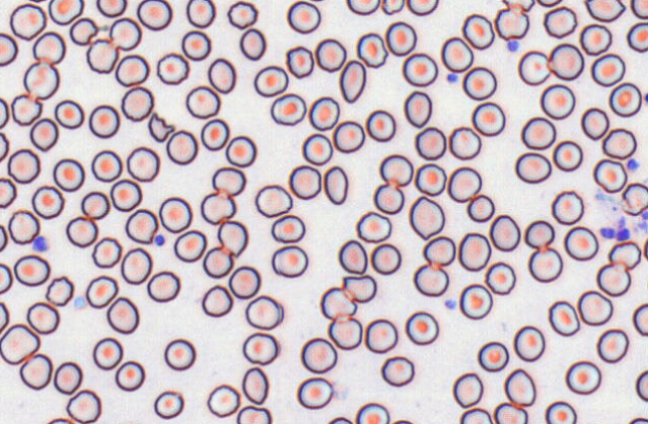PLT: (32, 235, 50, 252), (72, 296, 87, 310), (617, 227, 631, 242), (445, 71, 461, 83), (443, 297, 458, 309), (627, 158, 642, 170), (508, 39, 520, 53), (601, 226, 615, 238), (155, 233, 167, 246)
RBC: (0, 323, 40, 364), (408, 195, 445, 239), (23, 60, 59, 100), (9, 2, 46, 40), (547, 43, 584, 80), (245, 294, 283, 330), (300, 337, 337, 373), (458, 232, 491, 271), (200, 189, 236, 224), (577, 290, 613, 325), (565, 360, 601, 395), (540, 83, 575, 119), (447, 166, 482, 202), (158, 196, 192, 233), (503, 368, 536, 406), (106, 296, 139, 334), (338, 59, 366, 103), (327, 315, 362, 350), (563, 225, 598, 260), (320, 286, 356, 320), (242, 331, 278, 365), (126, 146, 160, 182), (402, 52, 438, 86), (19, 353, 52, 390), (296, 376, 333, 409), (271, 244, 308, 277), (255, 184, 292, 217), (596, 262, 631, 296), (66, 389, 101, 423), (528, 247, 562, 282), (593, 158, 627, 193), (364, 318, 398, 353), (404, 311, 439, 345), (608, 82, 642, 117), (471, 101, 505, 136), (462, 66, 497, 100), (413, 263, 449, 296), (459, 283, 492, 319), (165, 129, 198, 165), (520, 116, 556, 149), (440, 36, 473, 72), (461, 13, 494, 49), (120, 247, 152, 284), (13, 254, 50, 286), (514, 151, 551, 183), (488, 214, 520, 251), (379, 153, 413, 187), (7, 148, 40, 183), (125, 208, 158, 243), (517, 50, 550, 85), (185, 85, 220, 118), (120, 86, 153, 121), (596, 328, 629, 363), (494, 7, 529, 40), (288, 164, 321, 199), (286, 0, 321, 33), (590, 53, 625, 86), (548, 300, 580, 336), (513, 325, 545, 361), (601, 127, 637, 159), (270, 93, 306, 125), (217, 220, 248, 257), (206, 384, 240, 417), (115, 54, 149, 87), (31, 185, 64, 219), (543, 5, 577, 38), (551, 190, 584, 224), (448, 126, 481, 160), (86, 38, 118, 73), (7, 209, 39, 244), (253, 65, 288, 97), (384, 21, 416, 56), (452, 372, 483, 408), (355, 211, 391, 242), (32, 31, 65, 64), (108, 17, 141, 50), (85, 275, 118, 308), (173, 229, 206, 262), (26, 301, 59, 334), (332, 120, 365, 153), (228, 265, 260, 299), (146, 270, 180, 302), (314, 38, 346, 72), (414, 126, 446, 160), (356, 32, 387, 67), (136, 0, 172, 30), (403, 90, 432, 127), (241, 366, 269, 404), (201, 284, 233, 317), (65, 215, 98, 247), (110, 178, 142, 211), (414, 163, 446, 196), (156, 52, 189, 84), (52, 158, 84, 191), (579, 23, 612, 55), (380, 355, 414, 386), (484, 261, 515, 295), (308, 96, 339, 130), (88, 104, 119, 138), (207, 57, 236, 93), (164, 338, 196, 370), (202, 245, 233, 278), (422, 235, 455, 266), (92, 337, 123, 370), (91, 149, 122, 182), (365, 109, 396, 142), (211, 166, 245, 196), (338, 239, 367, 274), (373, 182, 404, 214), (11, 93, 42, 125), (91, 236, 122, 268), (370, 242, 401, 274), (301, 133, 332, 165), (225, 135, 256, 167), (608, 240, 641, 270), (29, 117, 58, 151), (271, 214, 305, 243), (323, 165, 348, 204), (114, 360, 145, 391), (552, 140, 583, 171), (53, 361, 82, 394), (200, 118, 229, 151), (580, 107, 609, 140), (285, 45, 314, 78), (477, 341, 508, 371), (47, 0, 84, 25), (584, 0, 625, 22), (524, 219, 554, 249), (181, 30, 211, 60), (54, 99, 84, 129), (45, 275, 74, 306), (153, 390, 184, 419), (227, 0, 257, 29), (239, 28, 266, 60), (621, 182, 647, 215), (466, 193, 495, 222), (80, 191, 110, 219), (185, 0, 215, 28), (69, 17, 98, 45), (493, 402, 527, 423), (355, 402, 389, 423), (544, 401, 576, 423), (626, 21, 647, 52), (236, 405, 271, 423), (0, 32, 18, 66), (459, 407, 492, 423), (96, 0, 127, 17), (346, 0, 380, 15), (0, 177, 16, 208), (632, 303, 647, 336), (406, 0, 438, 15), (502, 0, 534, 12), (0, 262, 12, 294), (635, 369, 647, 401), (380, 0, 404, 14), (630, 0, 647, 19), (0, 301, 9, 332), (0, 97, 9, 128), (0, 131, 9, 161), (0, 223, 8, 252), (46, 417, 76, 424), (536, 0, 563, 7), (326, 416, 353, 423), (582, 419, 612, 424), (643, 236, 648, 261), (114, 420, 143, 424), (628, 417, 647, 423), (390, 419, 413, 423), (27, 0, 48, 3), (307, 0, 330, 1)
Schistocyte: (343, 275, 376, 304), (148, 113, 174, 142)
